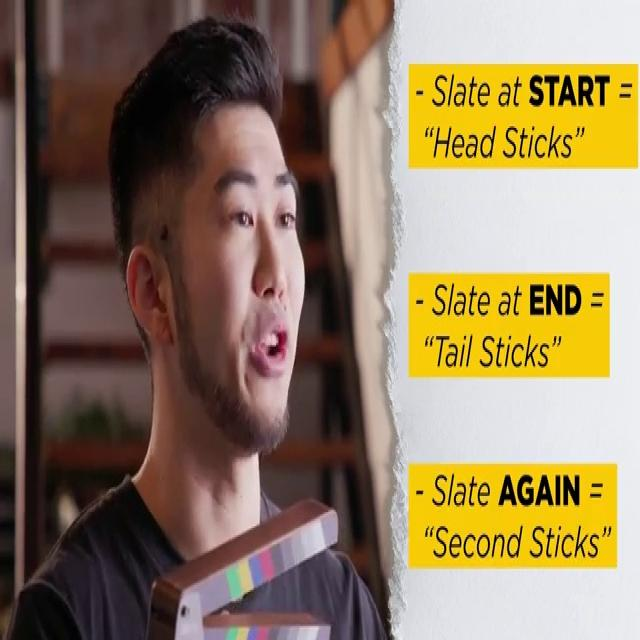Clapperboard: (139, 493, 339, 640)
